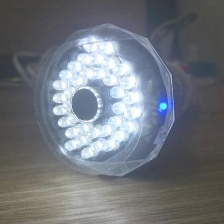light_bulb: (27, 16, 200, 185)
